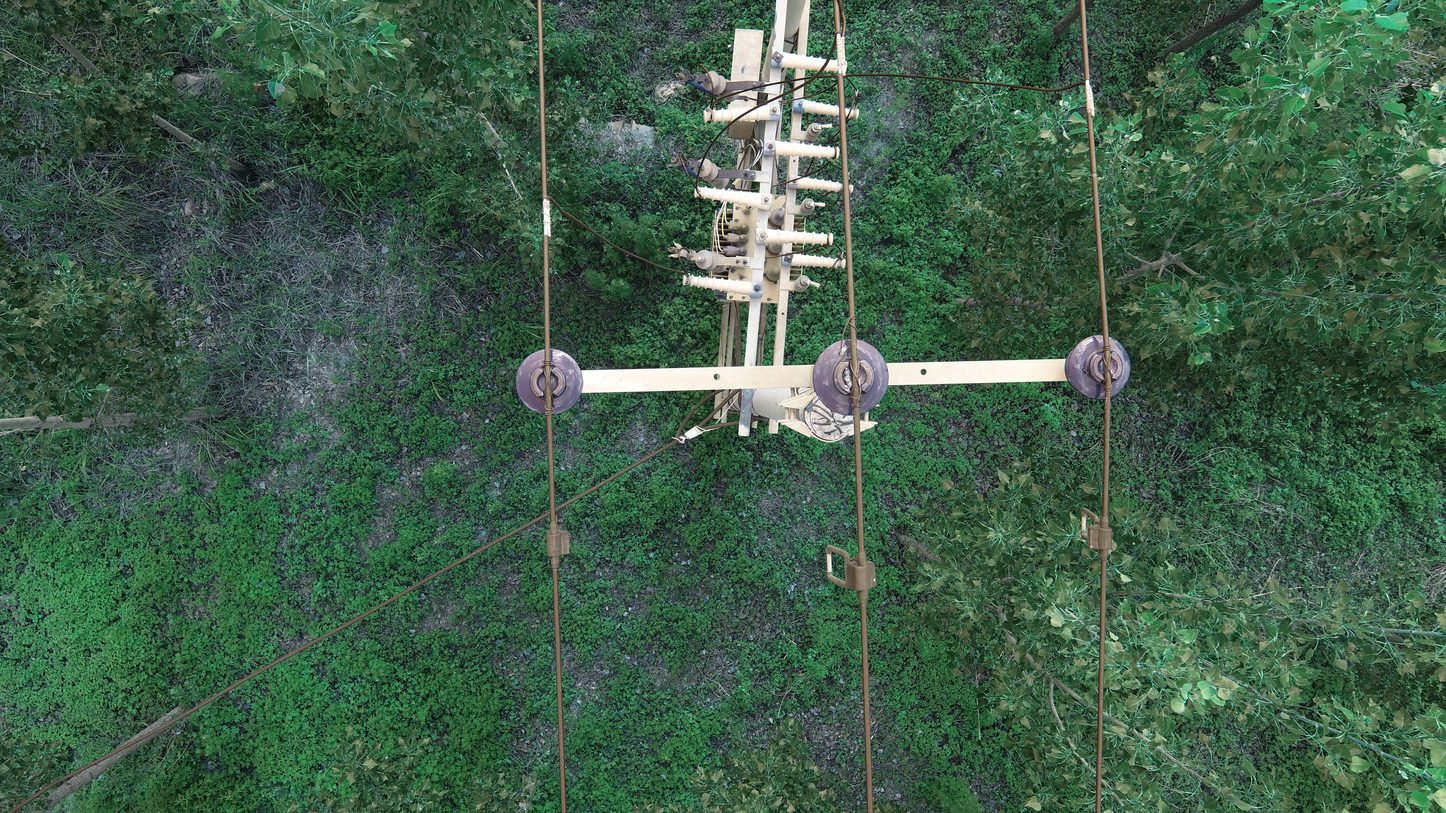severe_soiling_no_discharge_whole: (809, 337, 890, 417), (512, 347, 586, 420)
